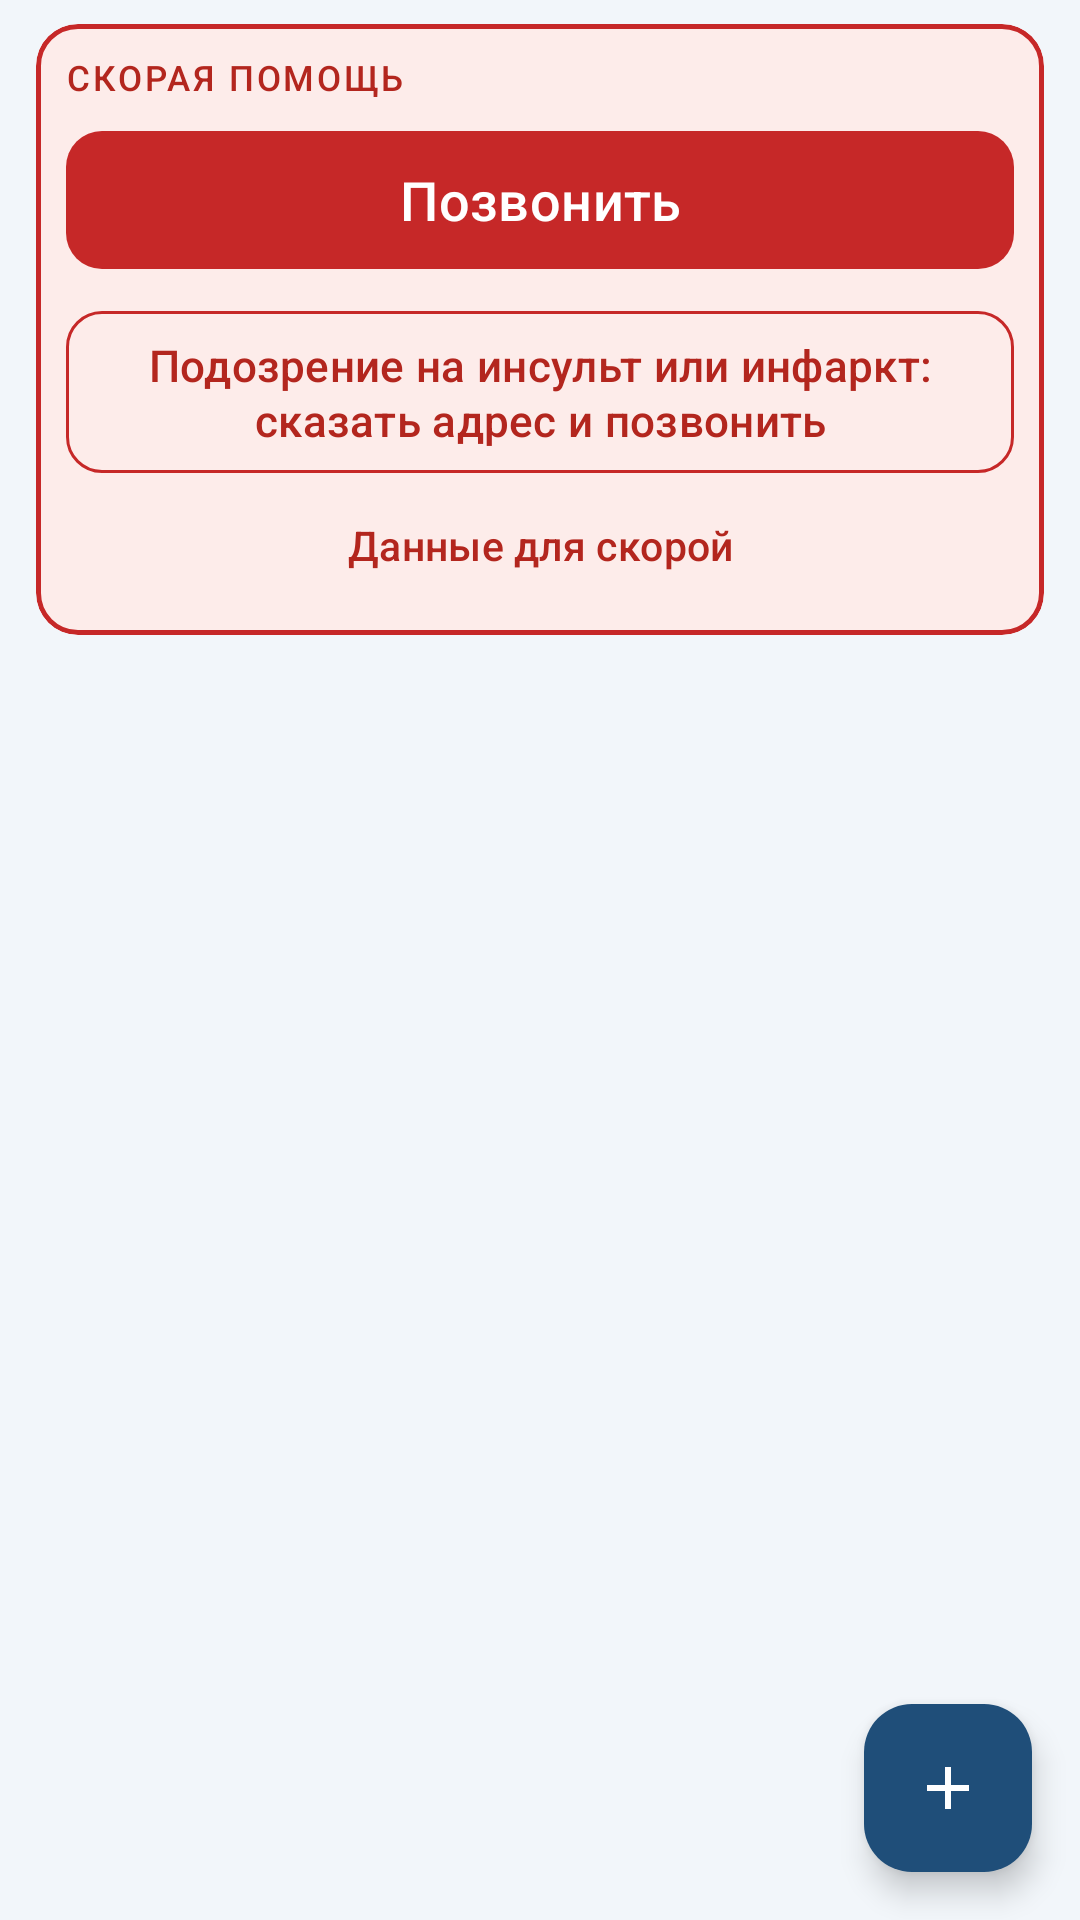

Icon click points for this 1080×1920 phone screenshot, format [x,y]:
Новое измерение: [948,1788]
